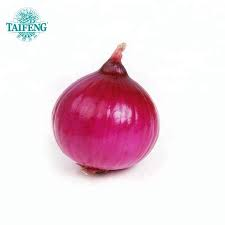onion: (50, 43, 159, 175)
